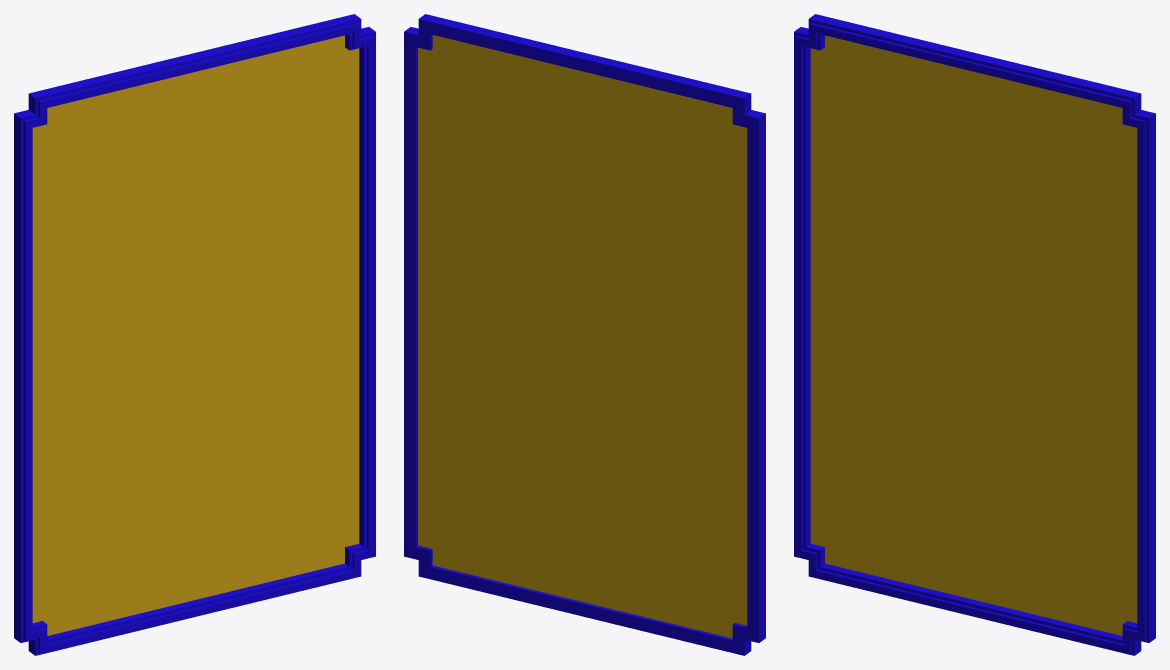
Rendered from SM_BathroomMirror_01.fbx.
3 views of the same model, side by side, from view 1: azimuth 30°, elevation 25°; view 2: azimuth 150°, elevation 25°; view 3: azimuth 330°, elevation 25° (orthographic).
Visible parts, largest first — view 1: Box002; view 2: Box002; view 3: Box002.
Part boxes in pixels (bbox=[...]): Box002: bbox=[14, 14, 375, 655]; Box002: bbox=[404, 14, 765, 655]; Box002: bbox=[794, 14, 1155, 655].
Size of the model in its own units: 120 by 180 by 5.
